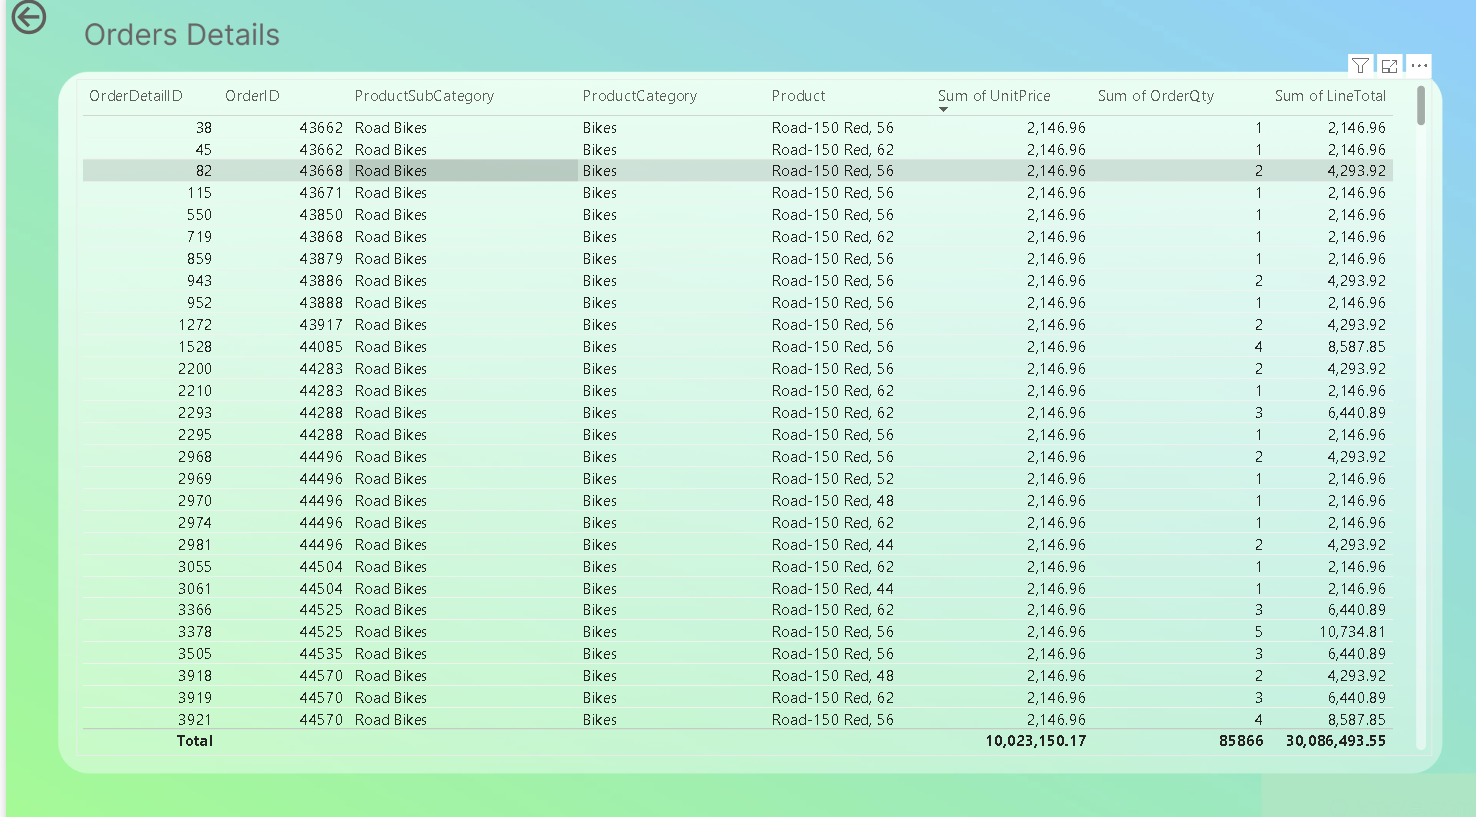

The dashboard page shown, as its layout file describes it:
{"tool":"powerbi","page":{"name":"Order Detalis","canvas":[1280,720],"ordinal":2},"visuals":[{"type":"tableEx","fields":{"Values":["Sales.OrderDetailID","Sales.OrderID","Sales.ProductSubCategory","Sales.ProductCategory","Sales.Product","Sum(Sales.UnitPrice)","Sales.OrderQty","Sum(Sales.LineTotal)"]},"box":[61.2,73.8,1173.8,586.2],"z":0},{"type":"actionButton","box":[0,0,100,40],"z":1000}]}

Visuals, with their boxes on the page's 1280x720 design canvas (x1, y1, x2, y2). These are canvas units, not pixel positions in the 1476x817 screenshot, which may show the page scaled, cropped or inside an application window:
tableEx - Sales.OrderDetailID x Sales.OrderID: (61,74,1235,660)
actionButton: (0,0,100,40)
